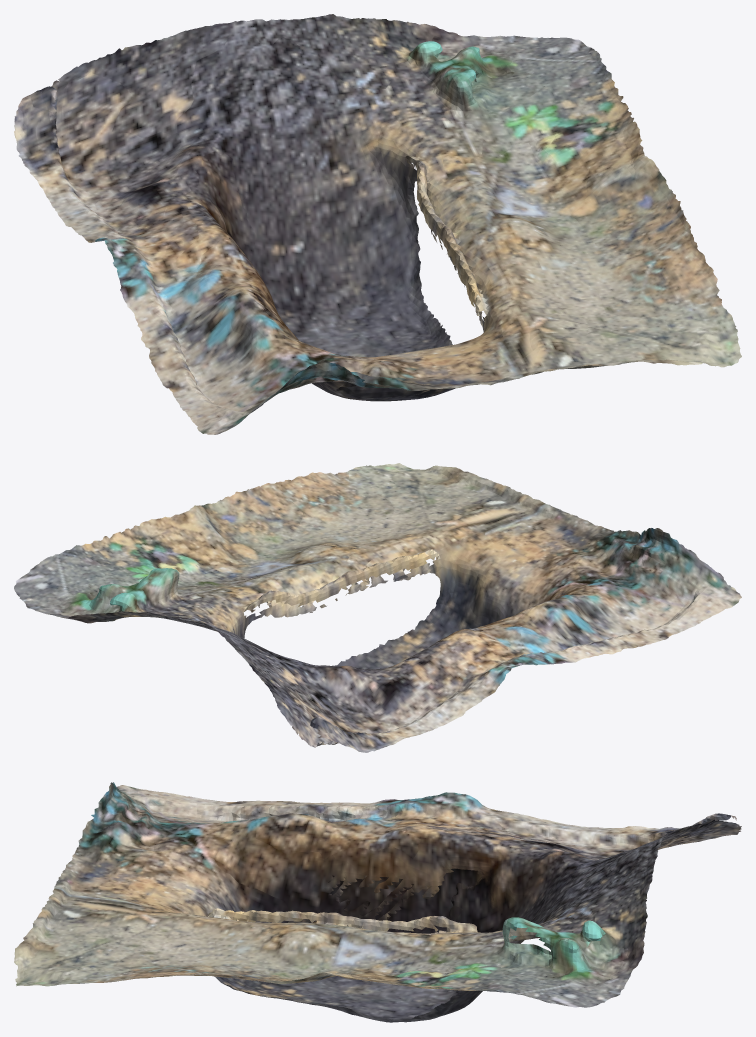
The model's file is Scaniverse_2026_01_25_152202.obj.
3 renders of one model, top to bottom at view 1: azimuth 30°, elevation 25°; view 2: azimuth 150°, elevation 25°; view 3: azimuth 270°, elevation 25°, orthographic. The views are drawn at different scales.
Parts seen in each view (by area): view 1: mesh; view 2: mesh; view 3: mesh.
Part boxes in pixels (x1,y1,x2,y2): mesh: (14, 14, 741, 434); mesh: (14, 463, 741, 752); mesh: (14, 782, 741, 1022).
Size of the model in its own units: 0.8113 by 0.2509 by 0.921.
Materials: 1 (1 with a texture image).
